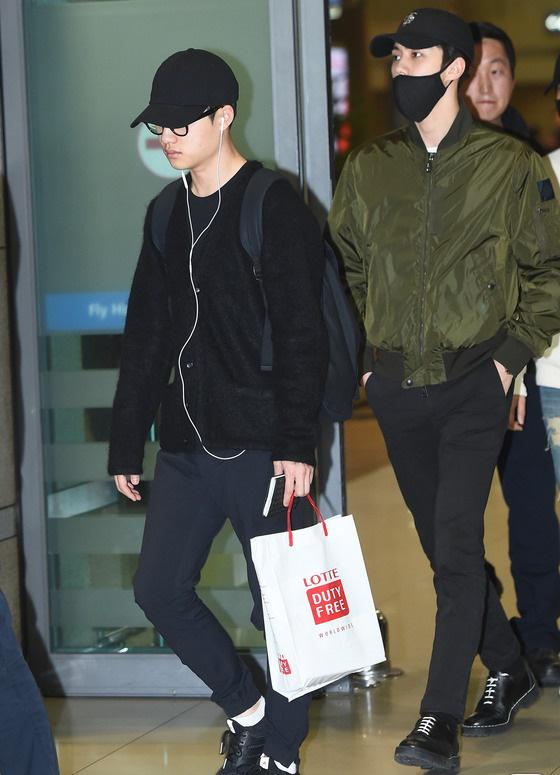NONE: (460, 51, 518, 119), (153, 116, 208, 166)
WRONG: (383, 44, 466, 127)
